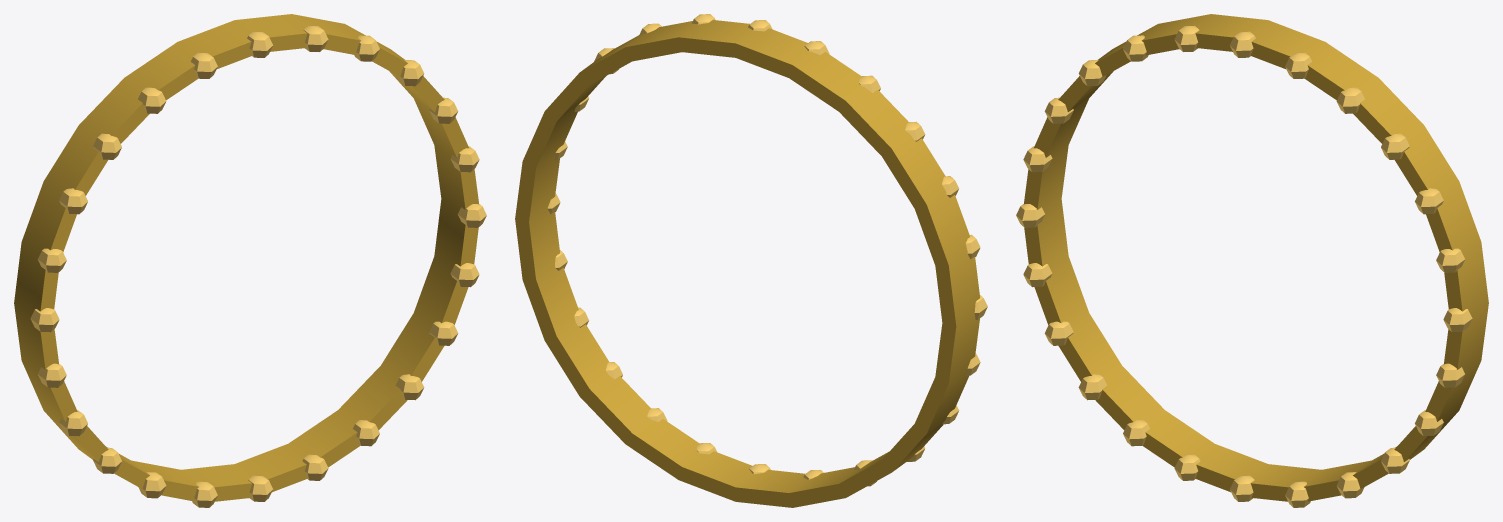
Rendered from 408_piece_roue_lumiere.fbx.
3 views of the same model, side by side, from view 1: azimuth 30°, elevation 25°; view 2: azimuth 150°, elevation 25°; view 3: azimuth 330°, elevation 25° (orthographic).
Parts seen in each view (by area): view 1: Lumiere; view 2: Lumiere; view 3: Lumiere.
Part boxes in pixels (left/top/right/bottom): Lumiere: left=14, top=14, right=486, bottom=507; Lumiere: left=515, top=14, right=987, bottom=507; Lumiere: left=1016, top=14, right=1488, bottom=507.
Bounding box in the file's own units: 2.24 × 2.24 × 0.28.
Materials: 1 (1 with a texture image).
